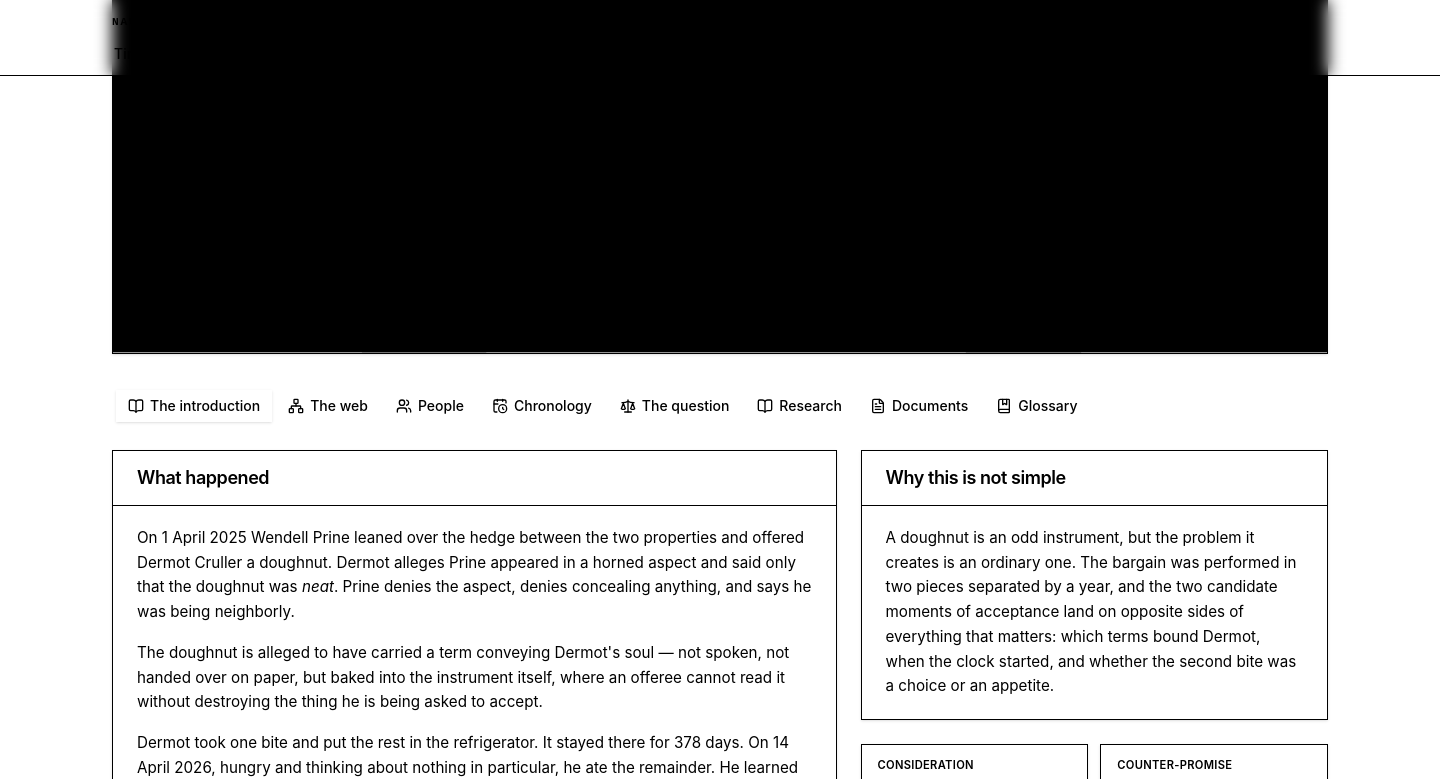
Test case: the introduction to Count II › links every glossary term to the canonical entry that governs it
This screenshot has width=1440, height=779.
(page scrolled)
What coordinates should you click on to do the following:
click the tab "Glossary"
I would click on:
 (1037, 406)
Its box is [984,390,1090,422].
(page scrolled)
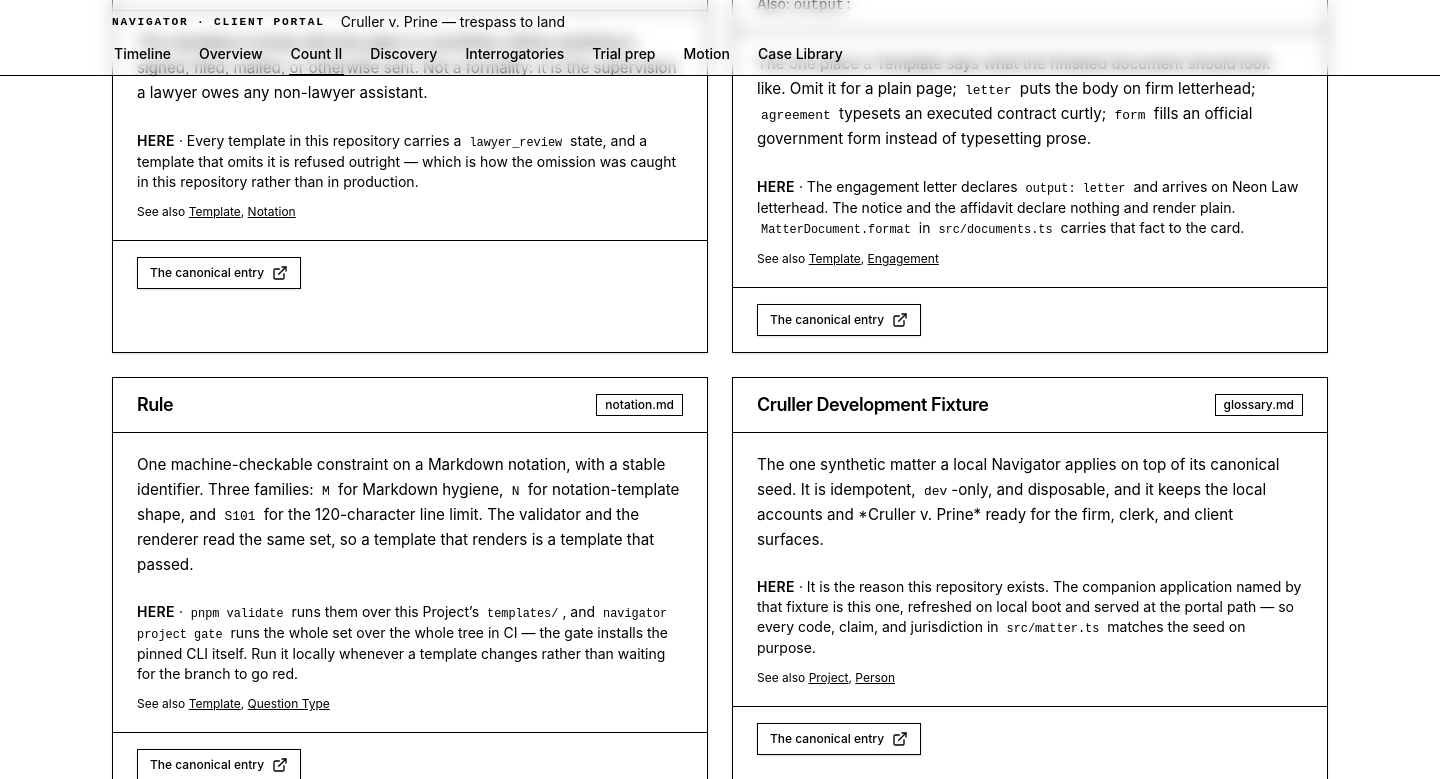
expect the heading "Rule" is shown: met, box [137,394,173,416]
expect the heading "Cruller Development Fixture" is shown: met, box [757,394,988,416]
